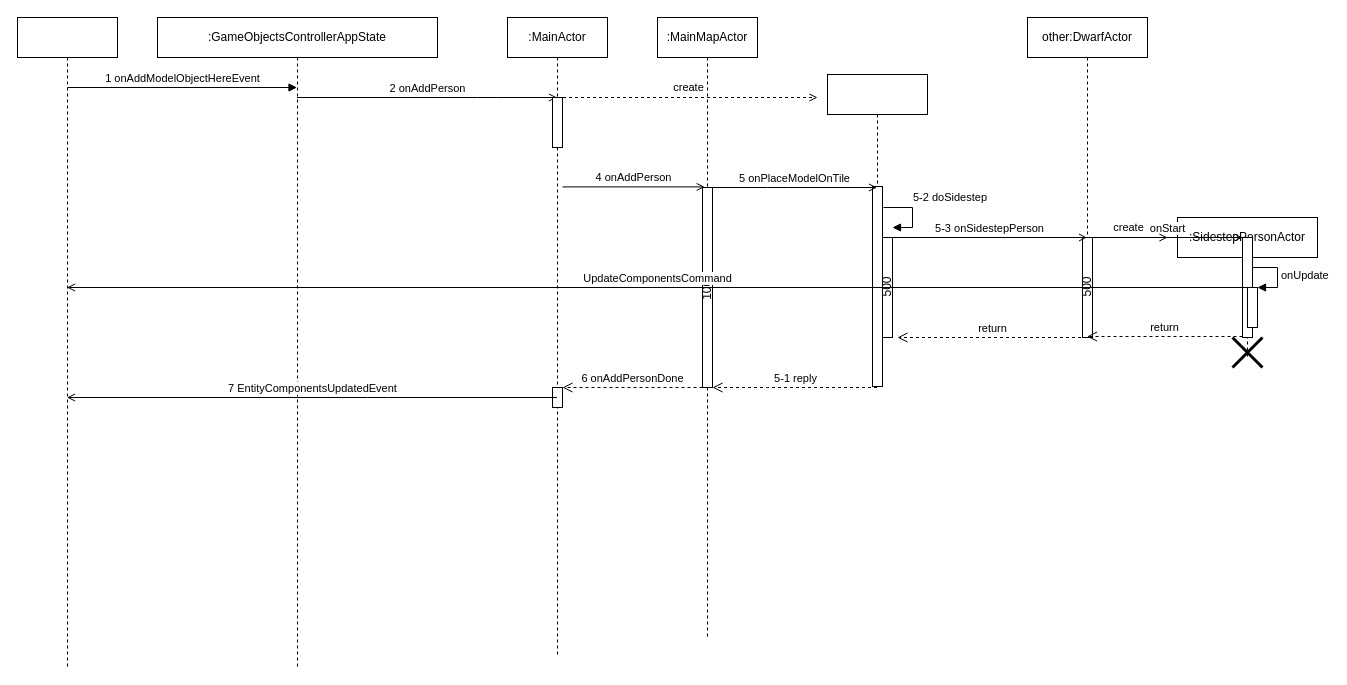
Some shapes in this 1347 by 685 pixel diagram are drawn without their labels. Here are the shapes that lost their labels. From the top down, the box of each, then its label:
(826, 74, 928, 374): :DwarfActor
(16, 16, 118, 668): :EventBus
